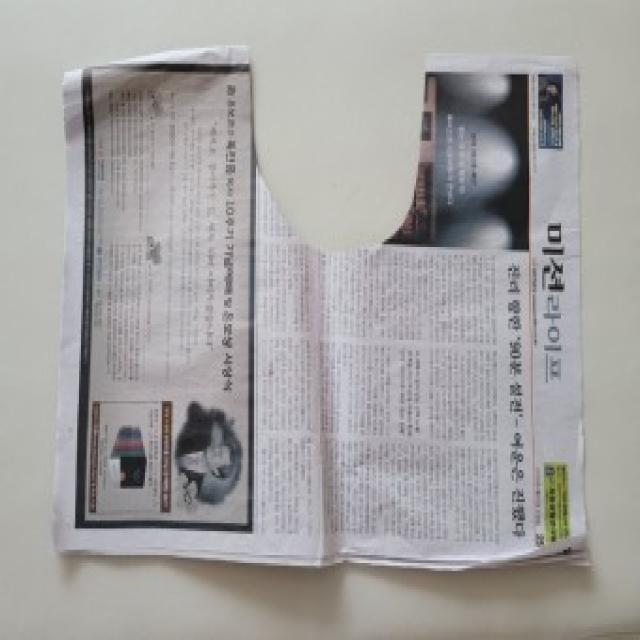Newspaper: (68, 65, 580, 552)
